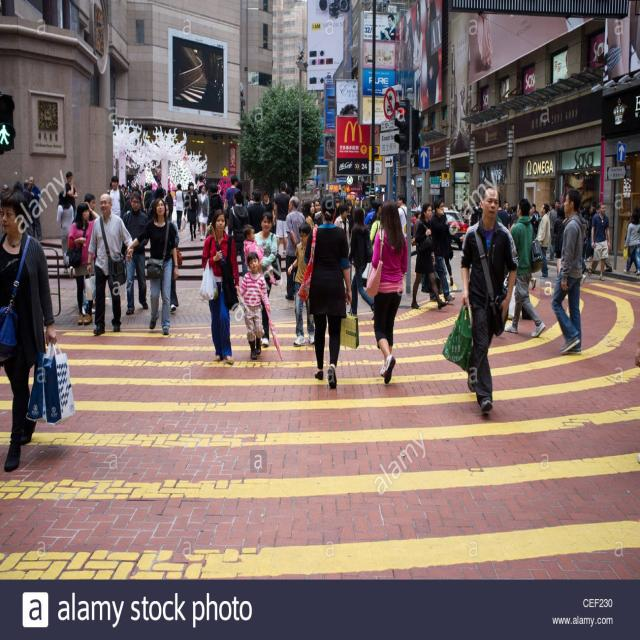body: (0, 186, 58, 474), (460, 185, 520, 413), (296, 192, 352, 388), (365, 198, 409, 384), (126, 196, 180, 335), (86, 192, 134, 335), (200, 208, 240, 366), (550, 188, 588, 354), (504, 198, 547, 339), (66, 201, 102, 326), (410, 202, 449, 310), (234, 251, 272, 361), (120, 191, 149, 316), (287, 222, 316, 345), (346, 206, 375, 321), (254, 211, 278, 347), (428, 197, 456, 303), (108, 177, 173, 218), (604, 14, 640, 86), (160, 200, 183, 312), (284, 195, 307, 302), (242, 223, 279, 286), (461, 10, 496, 74), (424, 0, 440, 133), (587, 201, 611, 281), (410, 0, 424, 137), (228, 189, 248, 277), (56, 190, 74, 279), (590, 203, 611, 275), (401, 10, 414, 124), (498, 192, 539, 226), (243, 186, 303, 208), (535, 202, 551, 279), (275, 181, 291, 256), (624, 203, 640, 274), (622, 210, 639, 276), (553, 206, 569, 276), (28, 175, 44, 241), (364, 197, 383, 250), (183, 180, 199, 242), (457, 81, 470, 152), (247, 188, 267, 234), (334, 204, 351, 258), (64, 170, 80, 220), (196, 185, 210, 241), (442, 221, 454, 286), (71, 193, 96, 224), (108, 175, 126, 218), (449, 201, 481, 225), (222, 174, 240, 212), (584, 202, 595, 263), (412, 191, 423, 248), (395, 20, 402, 105), (548, 202, 558, 257), (174, 182, 185, 230), (396, 192, 407, 240), (379, 13, 397, 41), (207, 182, 224, 210), (262, 191, 275, 227), (325, 195, 350, 213), (547, 198, 561, 224), (304, 200, 316, 230), (0, 179, 22, 194), (164, 188, 173, 222), (196, 185, 202, 231), (23, 179, 33, 204), (312, 199, 322, 224), (633, 335, 640, 369), (580, 254, 587, 286), (350, 196, 360, 214), (581, 200, 594, 210), (529, 275, 537, 290), (218, 187, 225, 201)
